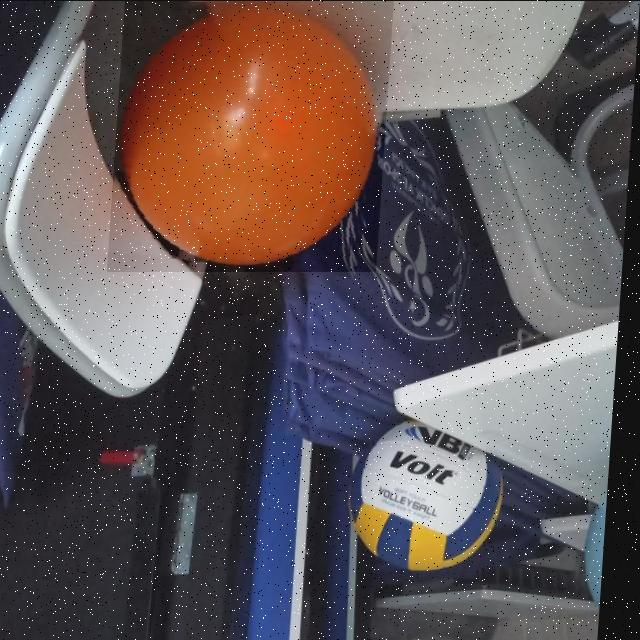balloon: (110, 0, 393, 271)
